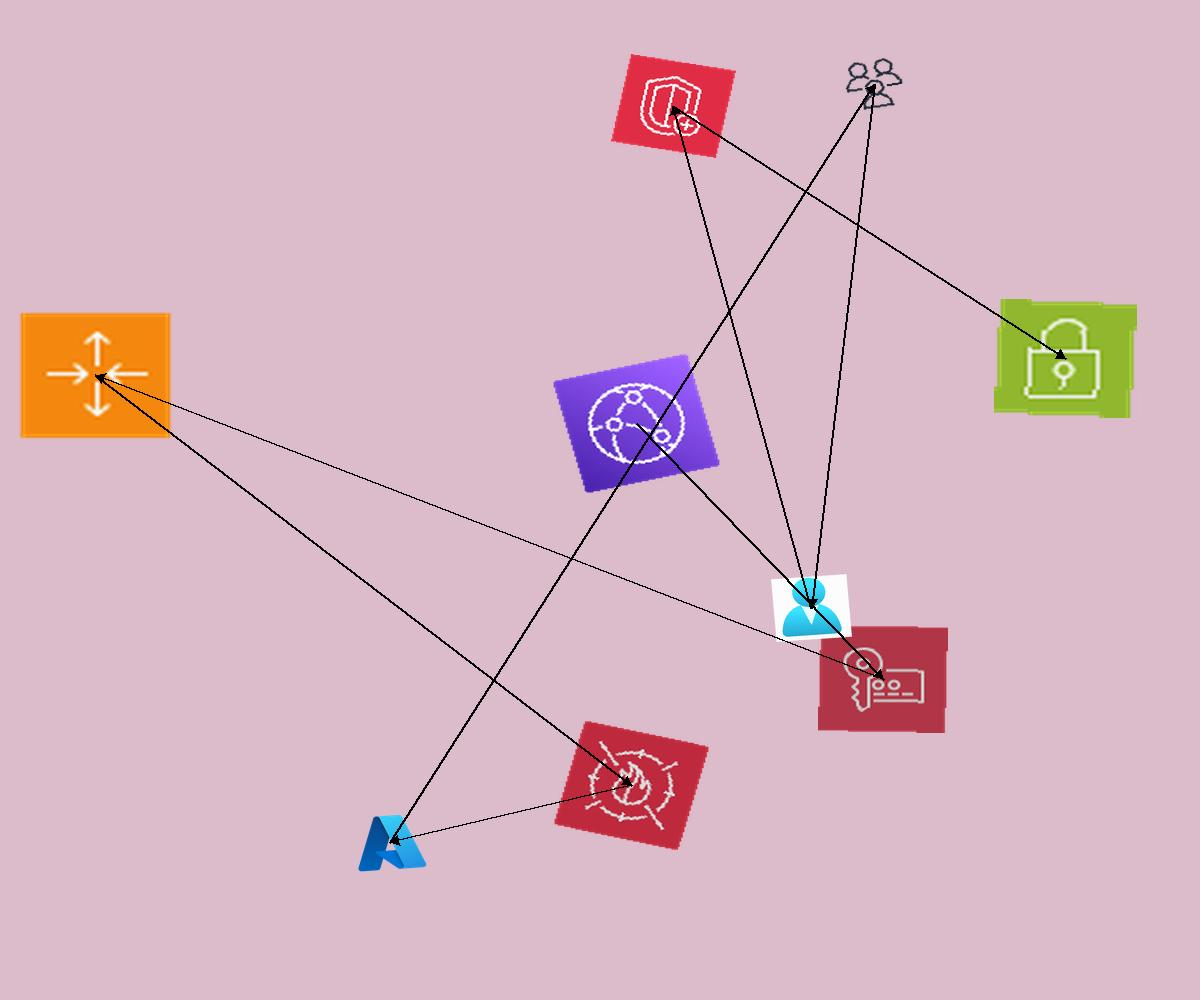AWS-CloudFront: (552, 353, 721, 494)
AWS-Key-Management-Service: (818, 625, 948, 733)
AWS-Public-subnet: (994, 299, 1137, 418)
AWS-Res_Users: (838, 54, 910, 114)
AWS-Scaling-group: (17, 310, 174, 441)
AWS-Shield: (611, 54, 736, 158)
AWS-WAF: (553, 720, 710, 851)
Azure_services: (350, 809, 430, 876)
Azure_users: (771, 574, 852, 642)
